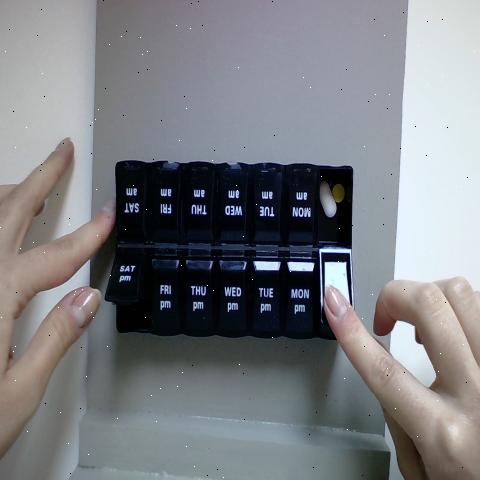FRI-am: (149, 159, 181, 238)
FRI-pm: (148, 252, 179, 331)
Hands: (0, 110, 116, 480), (320, 261, 480, 480)
MON-am: (285, 167, 319, 246)
MON-pm: (285, 253, 316, 336)
Open: (107, 256, 146, 331), (319, 167, 351, 248)
Pill: (321, 170, 337, 226), (330, 175, 347, 209)
PillBox: (96, 133, 368, 364)
SAT-am: (113, 160, 146, 239)
THU-am: (182, 160, 215, 246)
THU-pm: (179, 254, 215, 333)
TUE-am: (249, 166, 285, 247)
TUE-pm: (253, 259, 281, 337)
WED-am: (220, 163, 250, 249)
WED-pm: (217, 255, 249, 334)
